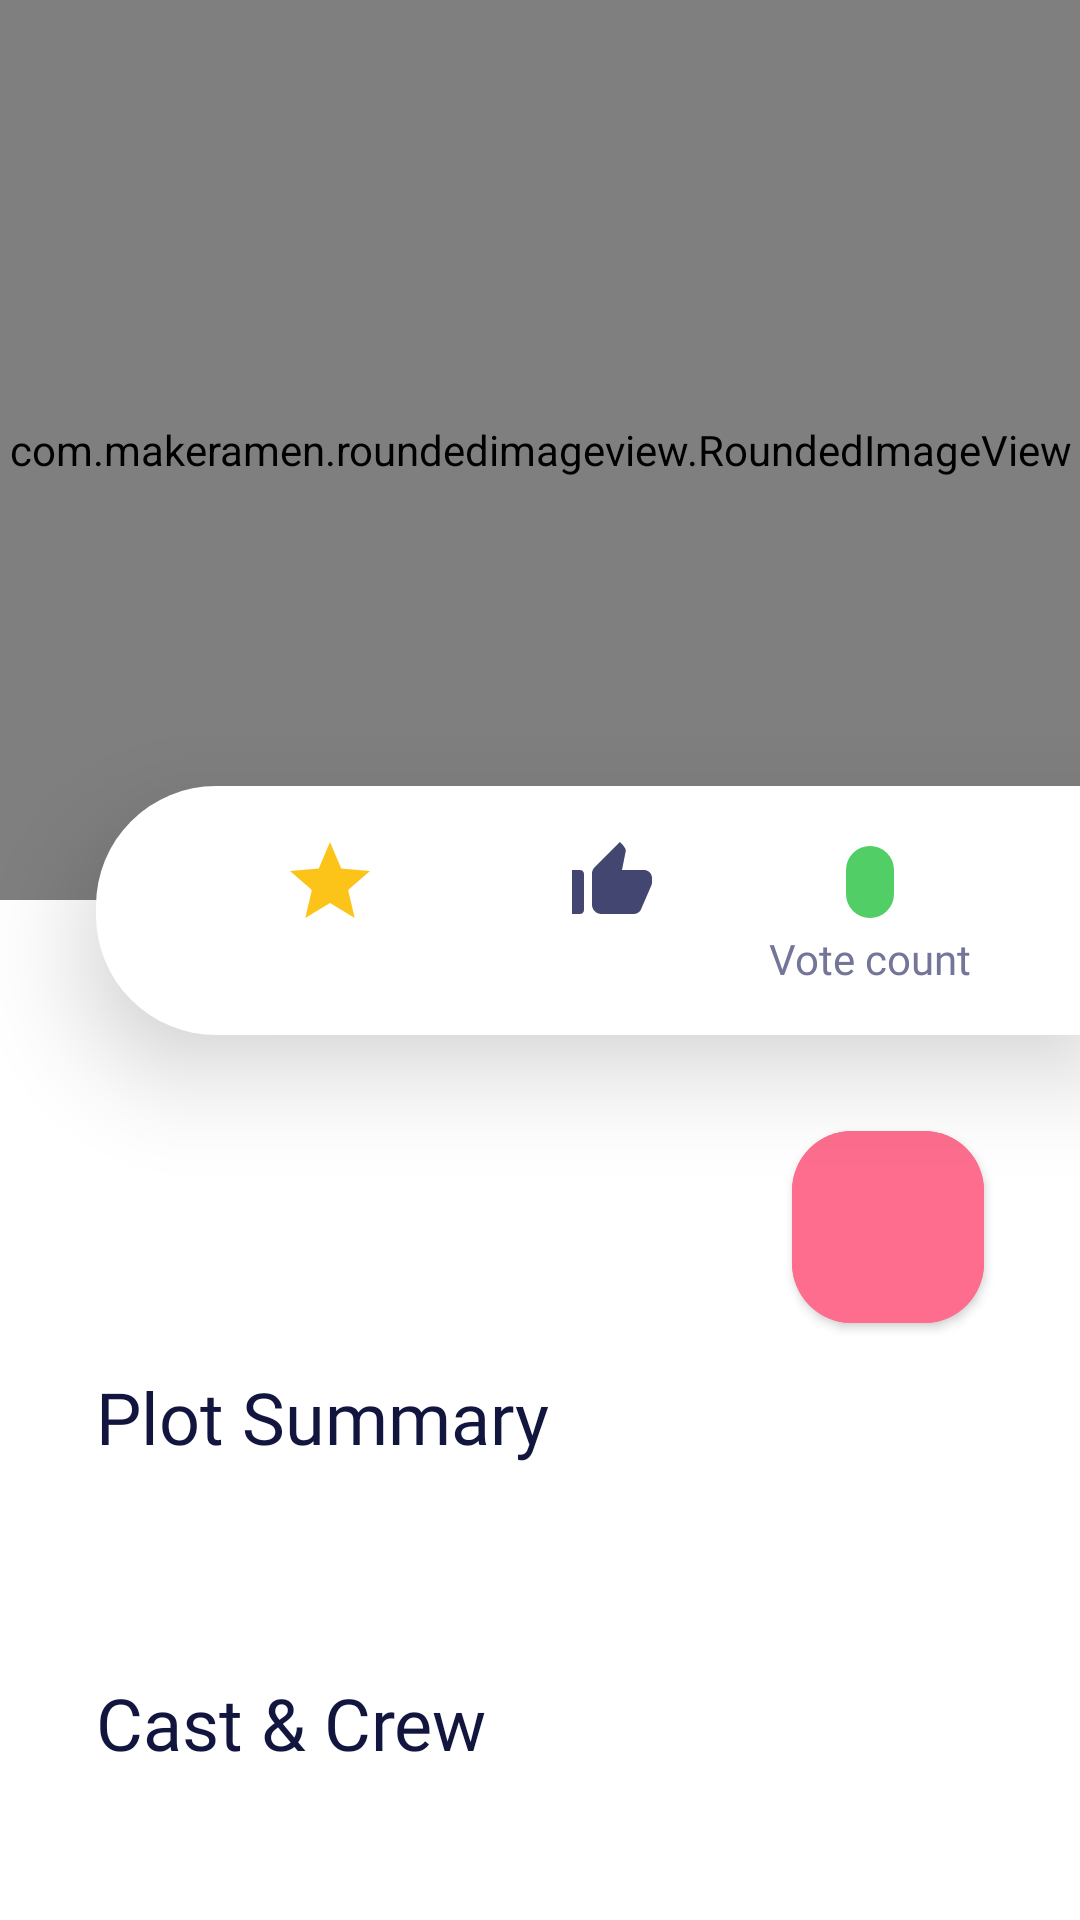

Point at icon controls on the screen. Image size 1080*1920, points as (x,y).
star: (330,880)
thumb up: (612,878)
